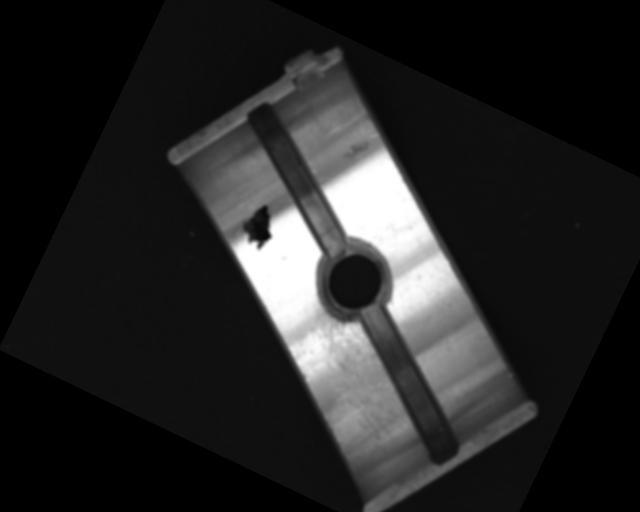blot: (235, 197, 285, 253)
bruise: (339, 133, 372, 168)
gap: (317, 298, 501, 468), (209, 96, 384, 257)
hole: (301, 229, 406, 334)
scratch: (261, 298, 441, 479)
